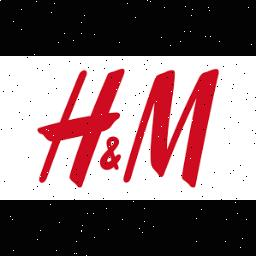h: (34, 68, 128, 192)
m: (126, 64, 232, 196)
